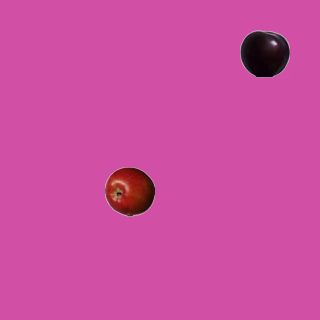Apple Braeburn: (104, 166, 154, 216)
Cherry Wax Black: (239, 28, 289, 78)
